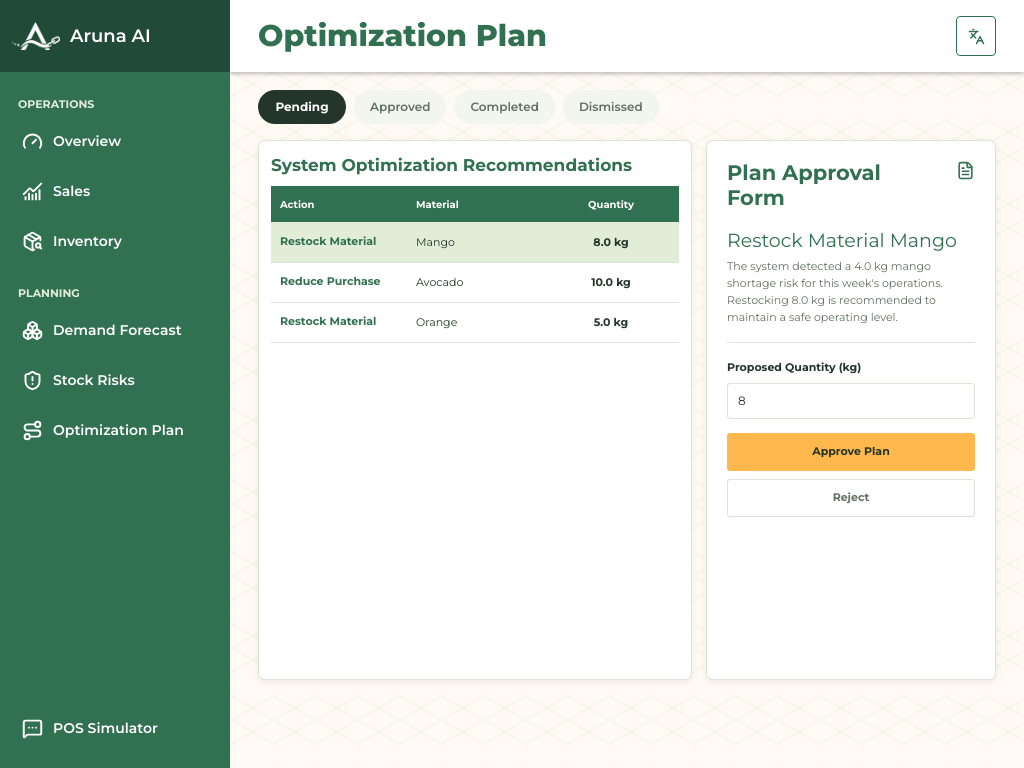
Test: OptimizationPlanPage › selects recommendations and filters by status
Expected: the heading "System Optimization Recommendations" is shown, x1=271 y1=155 x2=679 y2=176
Expected: the heading "Restock Material Mango" is shown, x1=727 y1=228 x2=975 y2=252
Click the button "Reduce Purchase": (339, 282) x1=280 y1=267 x2=398 y2=297
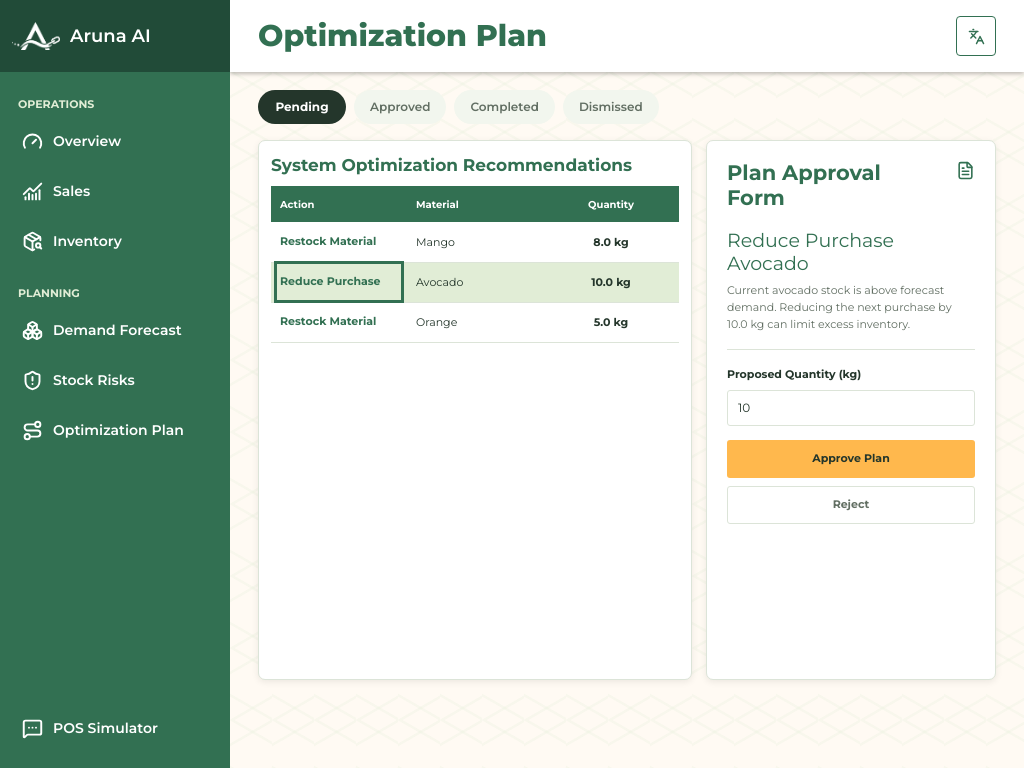
Expected: the button "Approve Plan" is disabled, x1=727 y1=440 x2=975 y2=478
Expected: the heading "Reduce Purchase Avocado" is shown, x1=727 y1=228 x2=894 y2=275
Click the tab "Approved": (400, 107) x1=354 y1=90 x2=446 y2=124
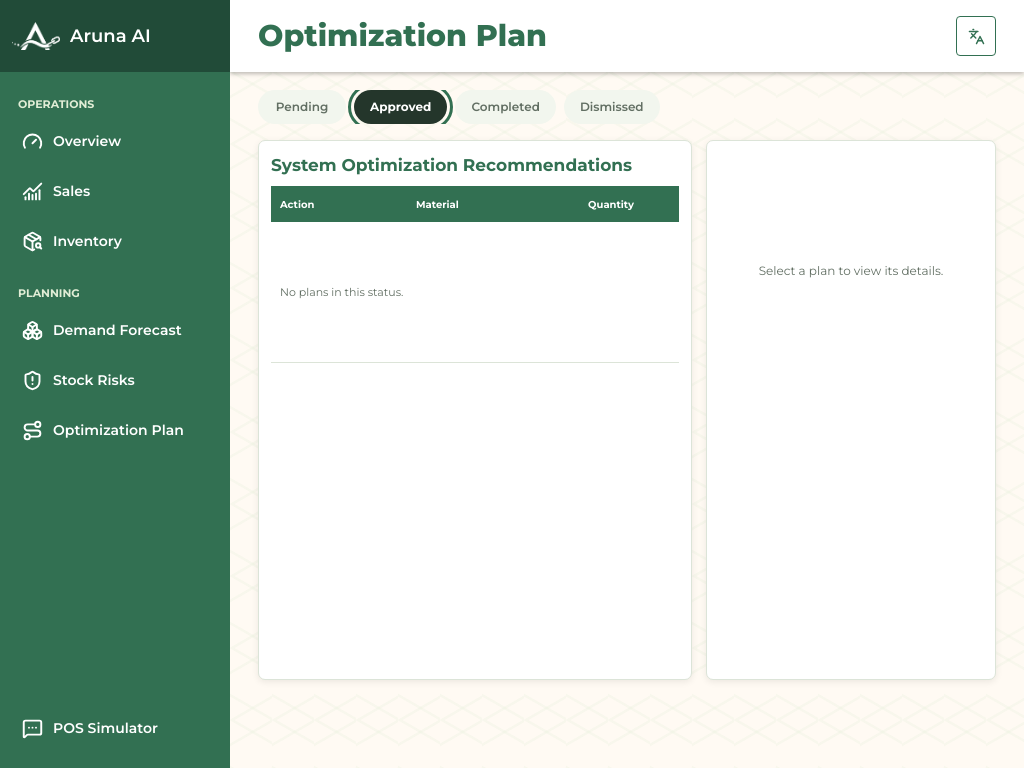
Expected: the text "No plans in this status." is shown, x1=271 y1=222 x2=679 y2=362
